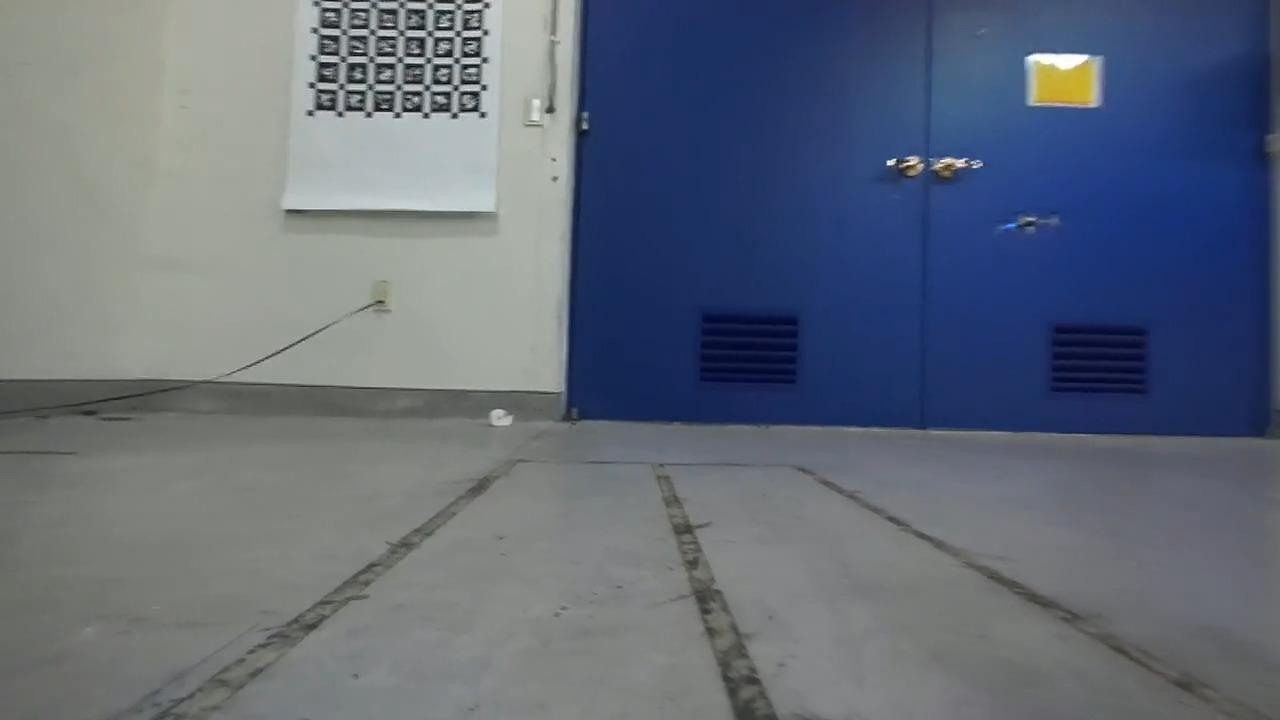crazyflie: (988, 204, 1067, 243)
